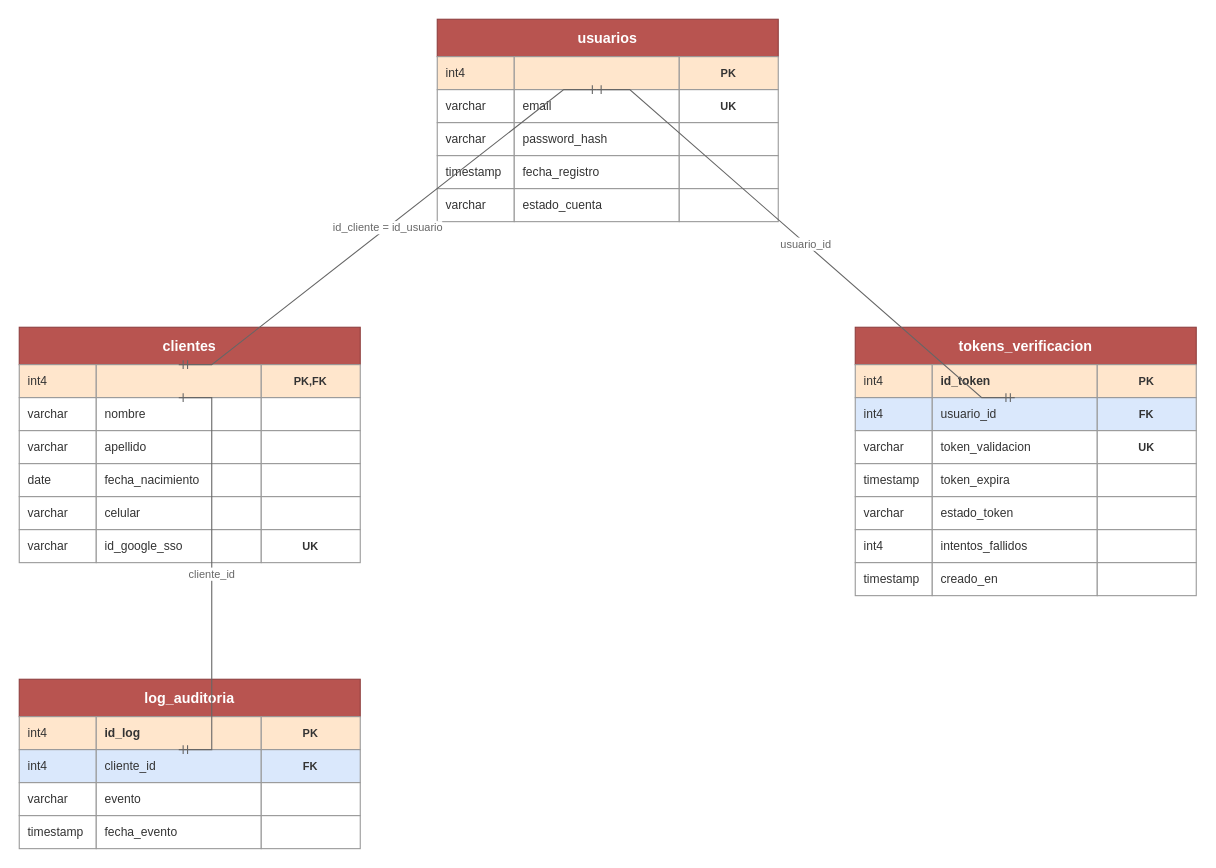
Image size: 1216x868. Some labels were removed from this diagram. The shapes that lost their labels are listed below. From the top down, each one's centre as x and y in pixels, then its label:
the point at 596,73: id_usuario
the point at 178,381: id_cliente
